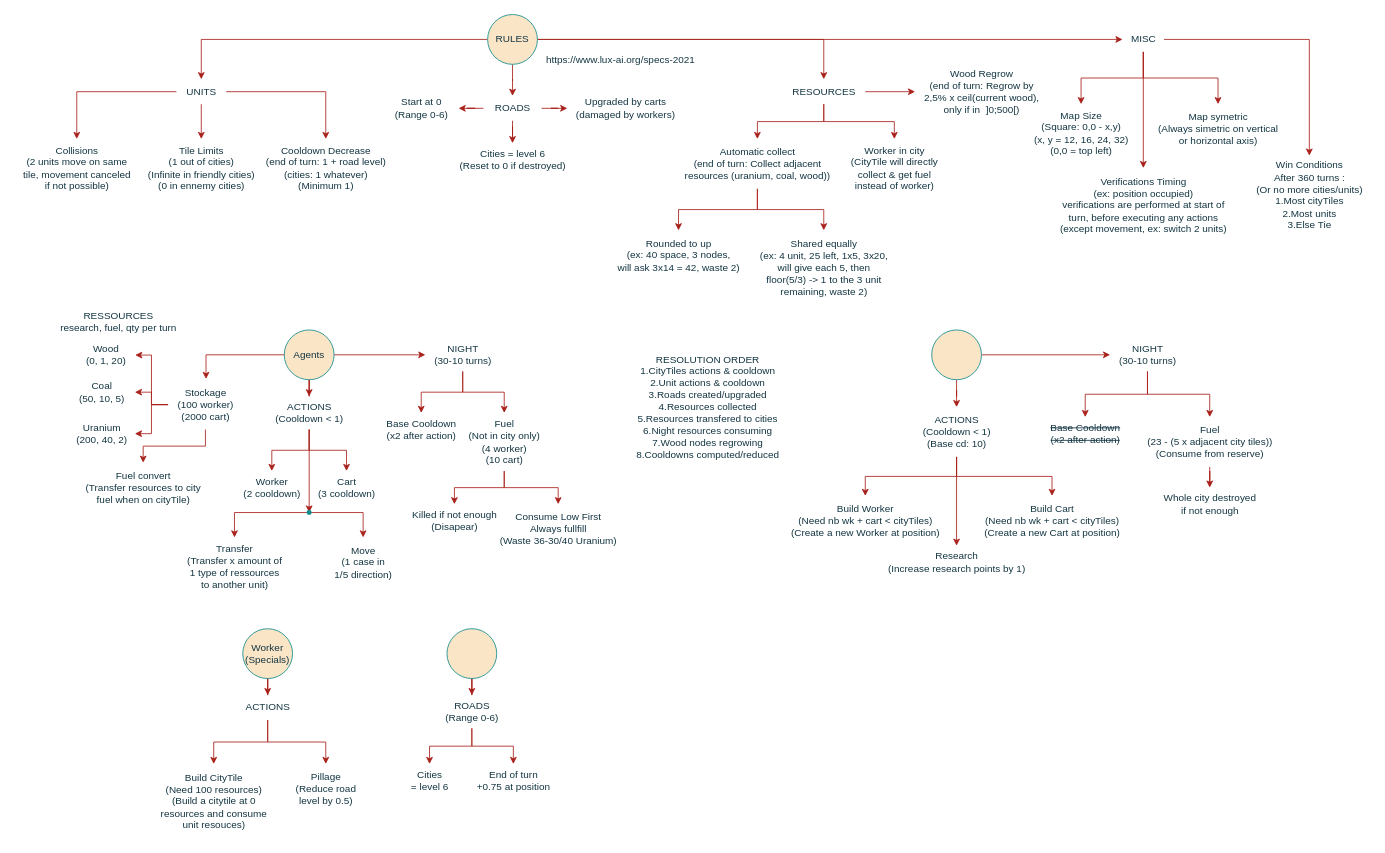
The diagram is 1385 pixels wide and 853 high, and some of its shapes have lost their labels. Each missing label, with the box of its shape:
Cart (Specials): (446, 628, 497, 679)
City: (931, 329, 981, 380)
